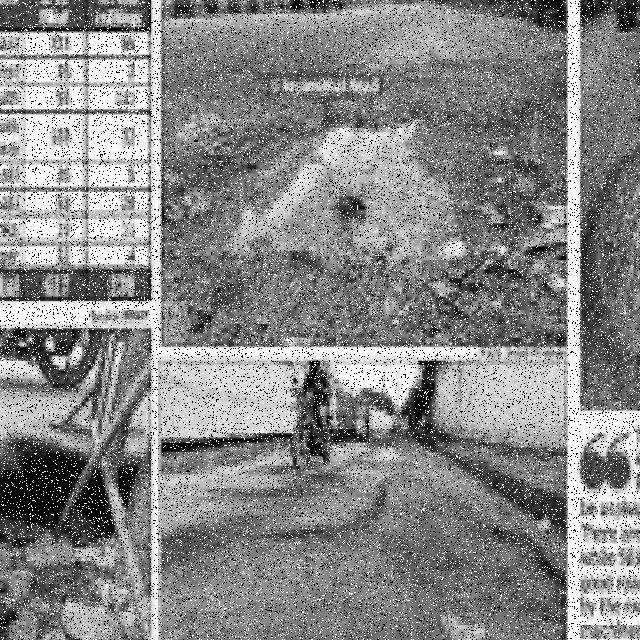pothole: (571, 128, 640, 640)
